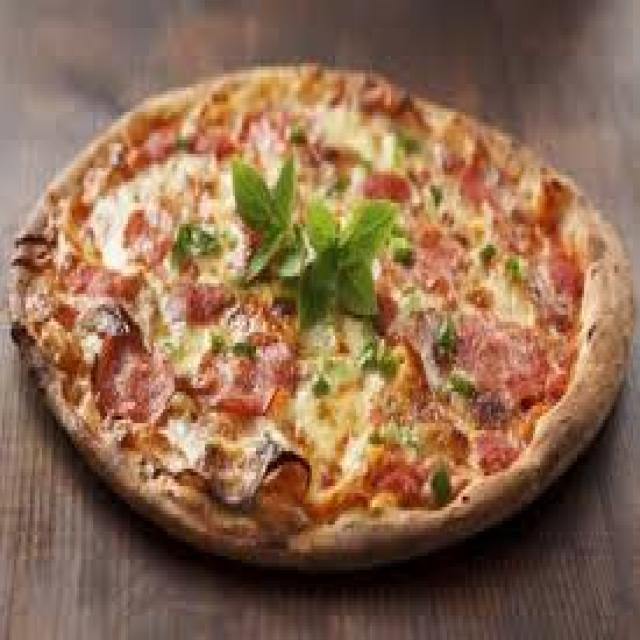피자: (9, 63, 633, 577)
